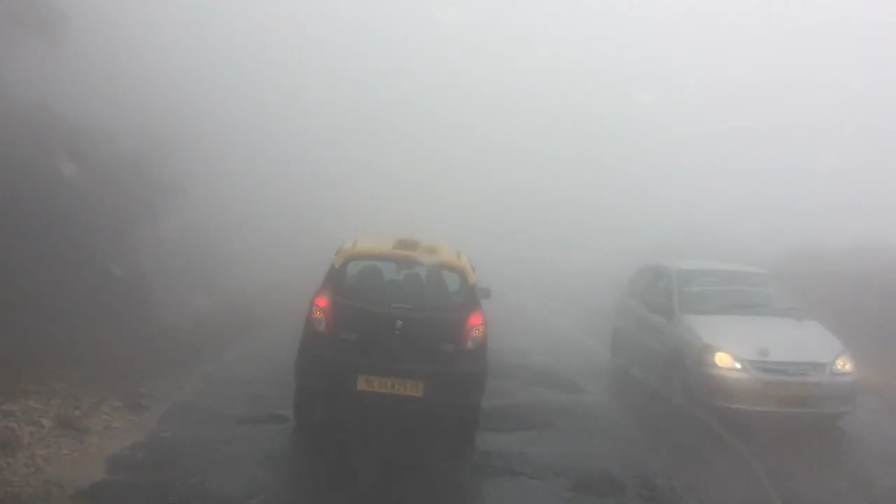car: (609, 259, 861, 431), (291, 235, 494, 439)
